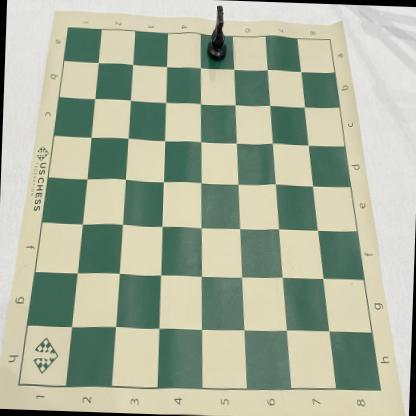knight: (207, 5, 228, 62)
